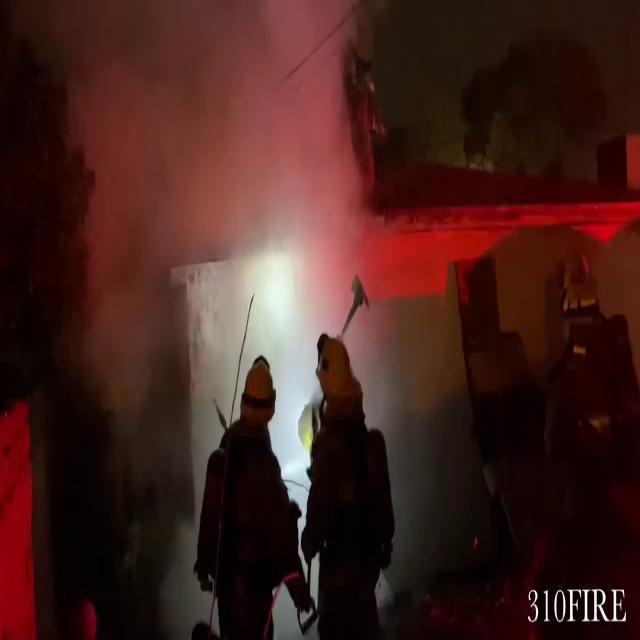Smoke: (14, 0, 414, 442)
